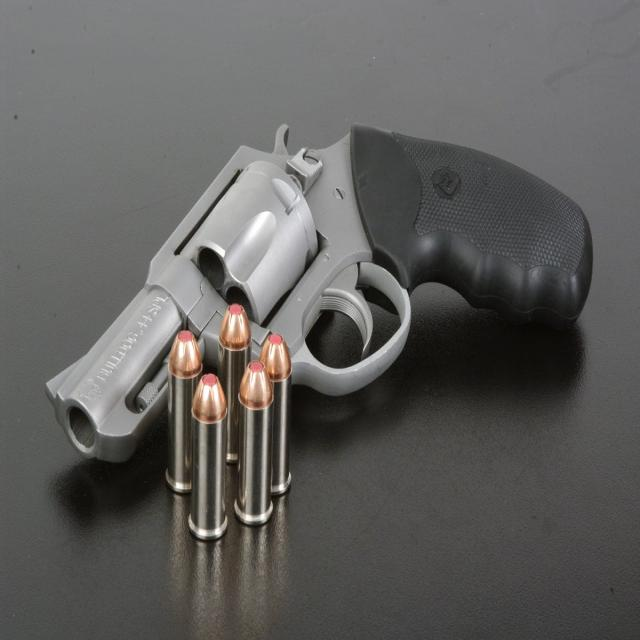HandGun: (45, 126, 594, 465)
